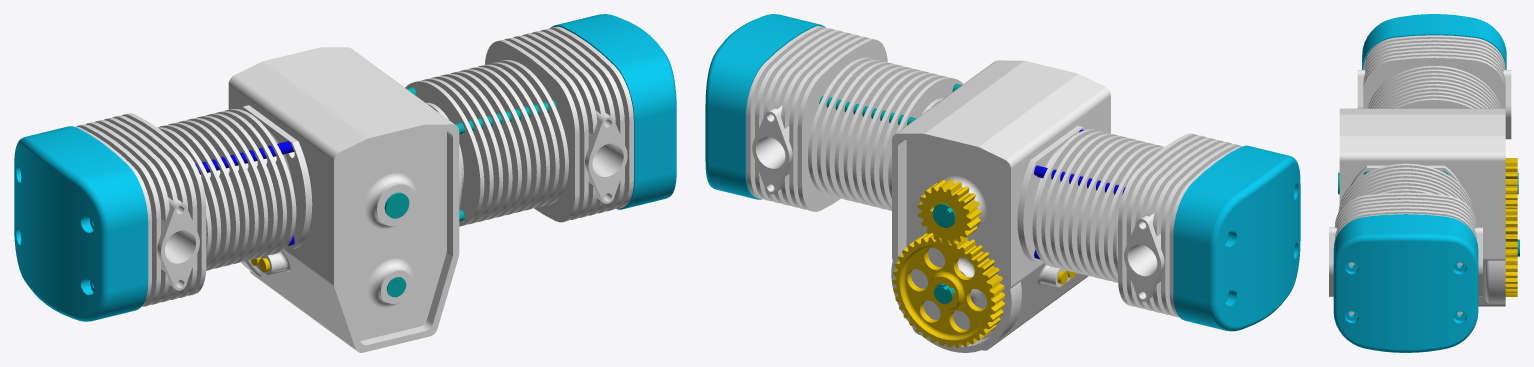
The model's file is 2CylinderEngine_blender.gltf.
3 renders of one model, left to right at view 1: azimuth 30°, elevation 25°; view 2: azimuth 150°, elevation 25°; view 3: azimuth 270°, elevation 25°, orthographic. The views are drawn at different scales.
Visible parts, largest first — view 1: body_1, body_4.002, body_2.001, body_2.002, body_3.001, body_3.002, body_4.001, body, body_5, body_22; view 2: body_1, body_4.002, body_2.002, body_3.001, body_2.001, body_3.002, body_4.001, body_21, body_23; view 3: body_4.001, body_1, body_3.002, body_2.002, body_3.001, body_2.001, body_4.002, body_21, body_23.
Part boxes in pixels (left/top/right/bottom): body_1: left=228, top=47, right=459, bottom=352; body_4.002: left=14, top=126, right=148, bottom=321; body_2.001: left=405, top=60, right=568, bottom=226; body_2.002: left=157, top=105, right=312, bottom=270; body_3.001: left=485, top=26, right=633, bottom=222; body_3.002: left=75, top=113, right=206, bottom=306; body_4.001: left=551, top=14, right=676, bottom=209; body: left=195, top=141, right=293, bottom=174; body_5: left=407, top=87, right=556, bottom=221; body_22: left=384, top=192, right=409, bottom=218; body_1: left=891, top=60, right=1110, bottom=352; body_4.002: left=1173, top=145, right=1300, bottom=331; body_2.002: left=1017, top=125, right=1164, bottom=282; body_3.001: left=746, top=26, right=887, bottom=211; body_2.001: left=808, top=57, right=963, bottom=210; body_3.002: left=1118, top=133, right=1242, bottom=317; body_4.001: left=705, top=14, right=824, bottom=199; body_21: left=892, top=233, right=1005, bottom=347; body_23: left=917, top=179, right=981, bottom=244; body_4.001: left=1333, top=214, right=1478, bottom=352; body_1: left=1339, top=108, right=1505, bottom=306; body_3.002: left=1357, top=35, right=1511, bottom=139; body_2.002: left=1368, top=66, right=1500, bottom=108; body_3.001: left=1329, top=192, right=1482, bottom=315; body_2.001: left=1338, top=163, right=1473, bottom=212; body_4.002: left=1362, top=14, right=1506, bottom=69; body_21: left=1505, top=209, right=1517, bottom=296; body_23: left=1505, top=158, right=1517, bottom=208.
Bounding box in the file's own units: 743 × 273 × 268.
